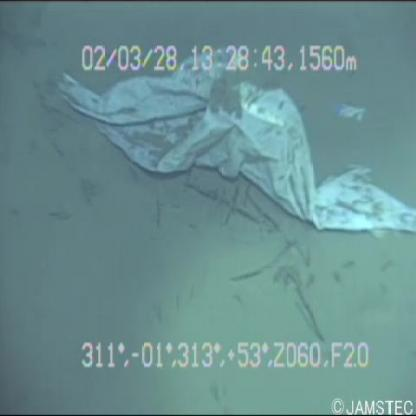Rác: (38, 35, 415, 255)
